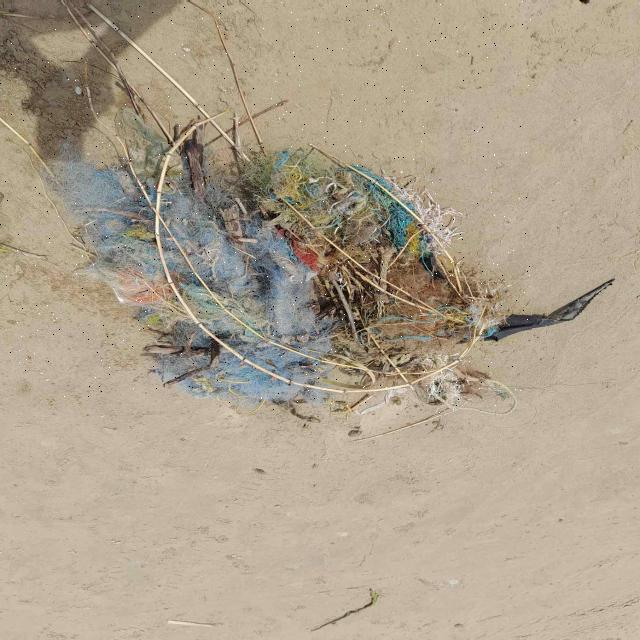biowaste: (0, 1, 532, 414)
